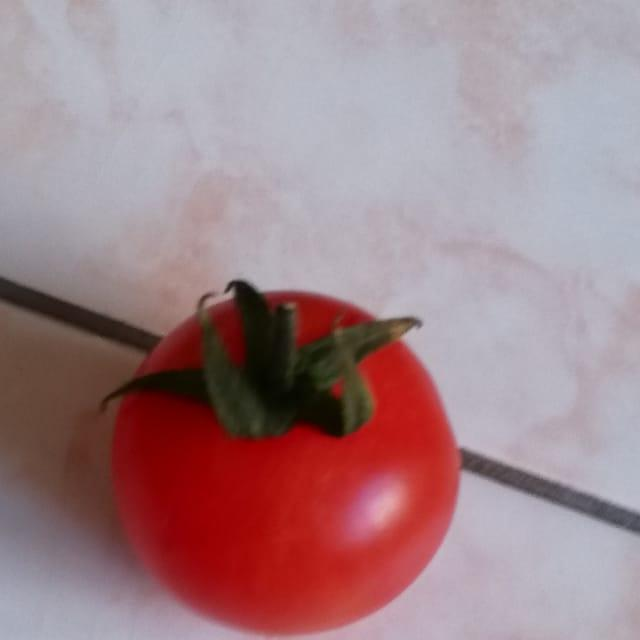tomato: (85, 259, 475, 640)
